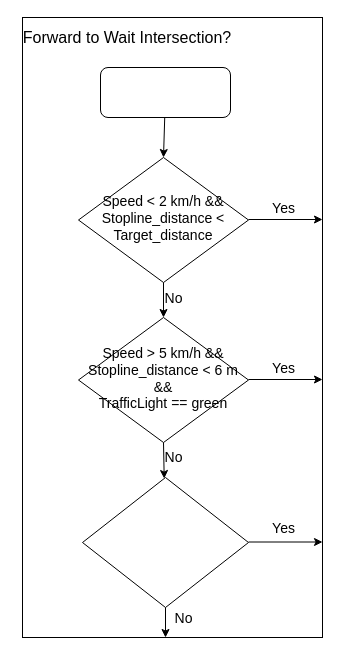
Some shapes in this 348 by 663 pixel diagram are drawn without their labels. The centre of each missing label's shape, as x and y in pixels:
Speed > 5 km/h && Stopline_distance < 3.5 m: (165,542)
Update: Speed: (165,92)
